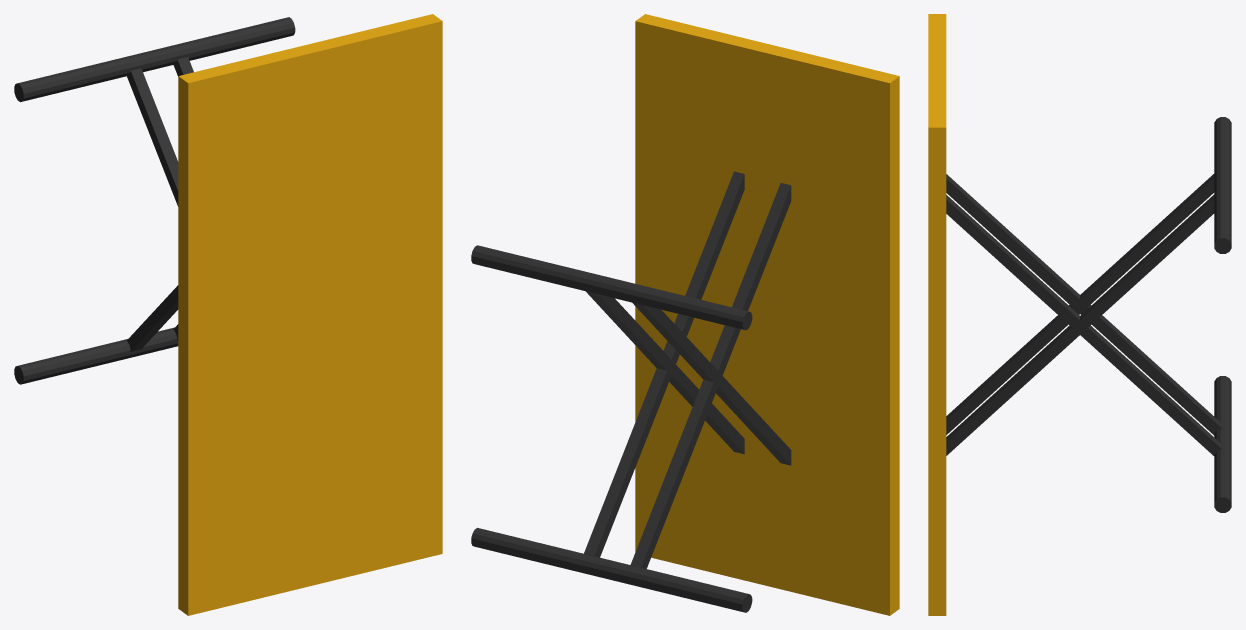
File: nil_link_mesh.dae
3 views of the same model, side by side, from view 1: azimuth 30°, elevation 25°; view 2: azimuth 150°, elevation 25°; view 3: azimuth 270°, elevation 25° (orthographic). The views are drawn at different scales.
Visible parts, largest first — view 1: nil_link (×5); view 2: nil_link (×7); view 3: nil_link (×7).
Part boxes in pixels (x1,y1,x2,y2): nil_link (×5): (14,14,442,615); nil_link (×7): (471,14,899,615); nil_link (×7): (928,14,1231,615).
Bounding box in the file's own units: 0.64 × 1.2 × 0.6757.
